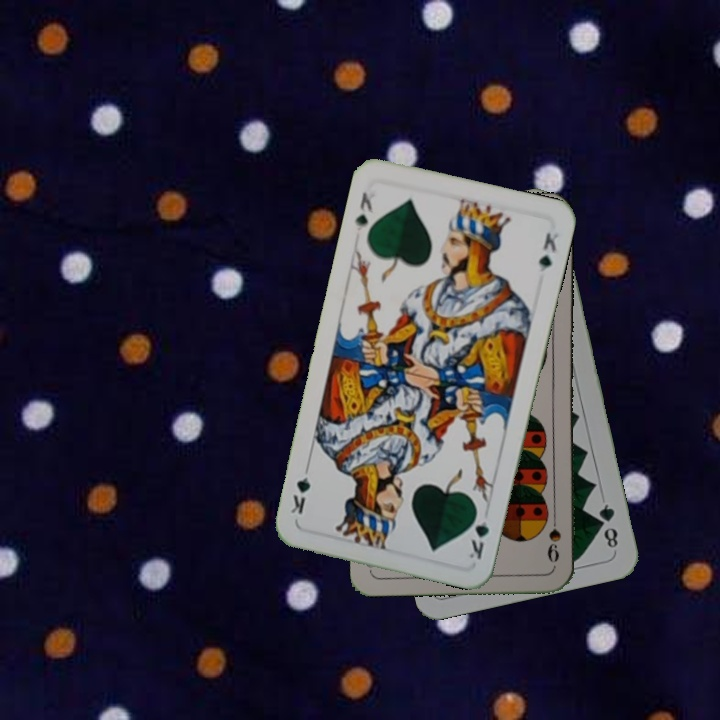G8: (594, 500, 621, 551)
GK: (465, 504, 492, 562), (351, 188, 376, 234)
S9: (543, 508, 563, 564)
